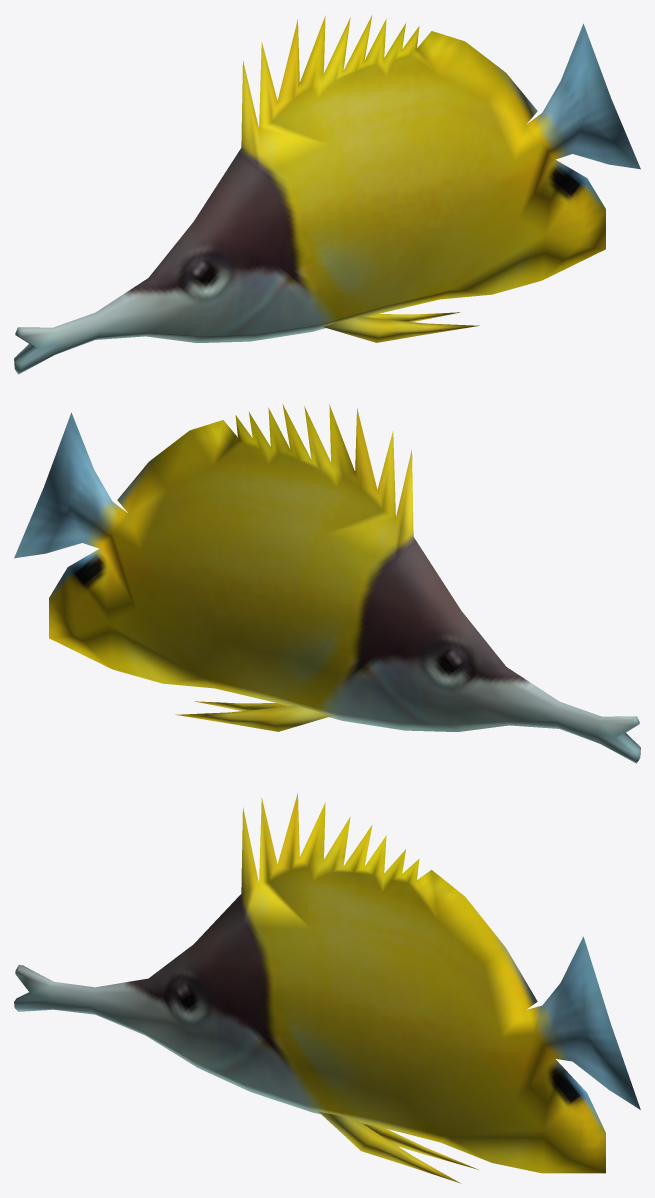
The model's file is f13_huangniekouyu.FBX.
3 views of the same model, one above another, from view 1: azimuth 30°, elevation 25°; view 2: azimuth 150°, elevation 25°; view 3: azimuth 330°, elevation 25° (orthographic).
Parts seen in each view (by area): view 1: f13_huangniekouyu; view 2: f13_huangniekouyu; view 3: f13_huangniekouyu.
Boxes of the visible parts, left/top/right/bottom form: f13_huangniekouyu: left=14, top=15, right=640, bottom=374; f13_huangniekouyu: left=14, top=404, right=640, bottom=763; f13_huangniekouyu: left=14, top=793, right=640, bottom=1183.
Size of the model in its own units: 89.78 by 46.95 by 6.92.
Materials: 1 (1 with a texture image).
